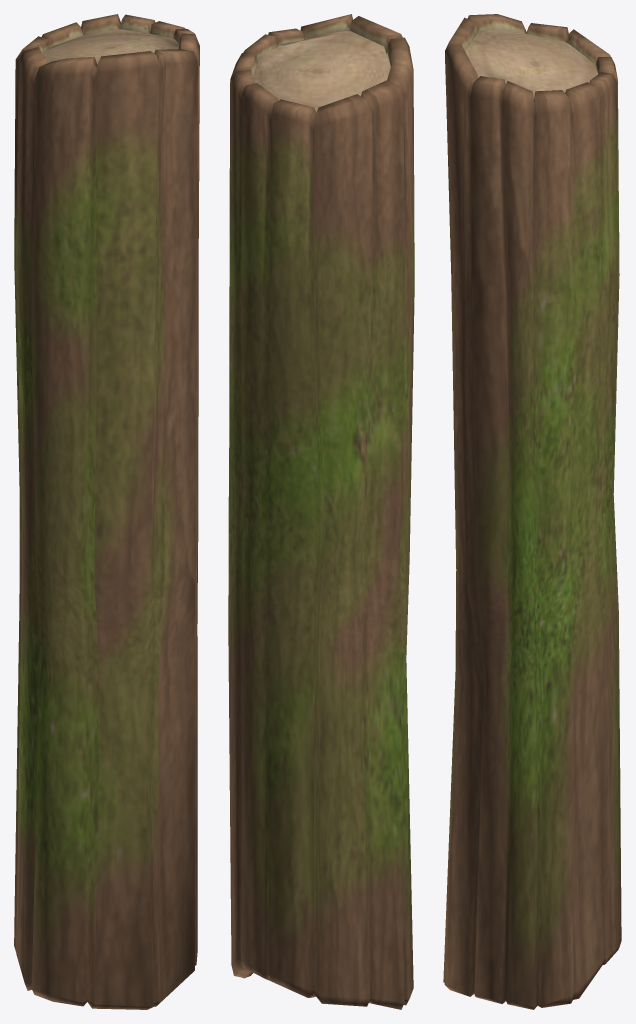
The model's file is log_small_001_lod_model_a.glb.
3 renders of one model, left to right at view 1: azimuth 30°, elevation 25°; view 2: azimuth 150°, elevation 25°; view 3: azimuth 270°, elevation 25°, orthographic.
Visible parts, largest first — view 1: trees_log_mossy.png__, tree_stumps.jpg__; view 2: trees_log_mossy.png__, tree_stumps.jpg__; view 3: trees_log_mossy.png__, tree_stumps.jpg__.
Part boxes in pixels (x1,y1,x2,y2): trees_log_mossy.png__: (14,14,199,1009); tree_stumps.jpg__: (42,29,178,64); trees_log_mossy.png__: (228,14,414,1009); tree_stumps.jpg__: (253,30,390,112); trees_log_mossy.png__: (443,14,621,1009); tree_stumps.jpg__: (465,29,598,99).
Bounding box in the file's own units: 0.5604 × 3 × 0.5107.
Materials: 2 (2 with a texture image).
